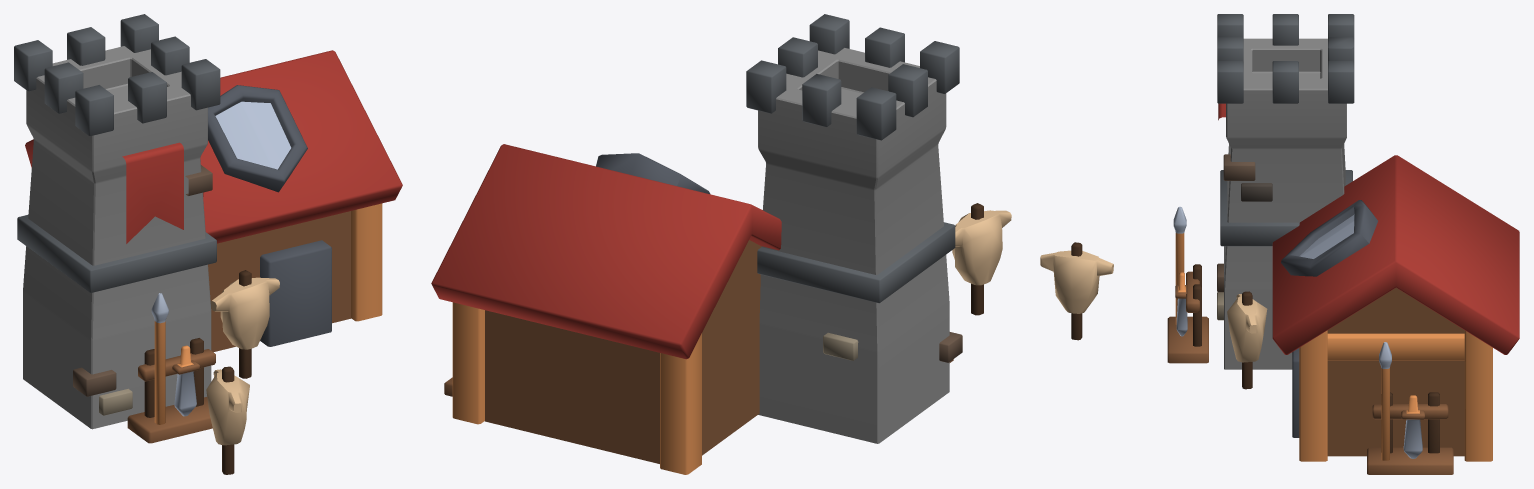
The model's file is Warrior-Barrack.fbx.
The picture shows the model from 3 angles, left to right: view 1: azimuth 30°, elevation 25°; view 2: azimuth 150°, elevation 25°; view 3: azimuth 270°, elevation 25°; orthographic projection. The views are drawn at different scales.
Parts seen in each view (by area): view 1: Cube.1431, Cube.1443, Cube.1442, Cube.1445, Cube.1435, Cube.1433, Cube.1441, Cube.1450, Cube.1432, Cube.1446, Cube.1449, Cube.1447 (+12 smaller); view 2: Cube.1431, Cube.1443, Cube.1442, Cube.1435, Cube.1433, Cube.1444, Cube.1432, Cube.1446, Cube.1554, Cube.1434, Cube.1450, Cube.1440; view 3: Cube.1443, Cube.1431, Cube.1442, Cube.1446, Cube.1451, Cube.1432, Cube.1450, Cube.1554, Cube.1433, Cube.1435, Cube.1453, Cube.1447 (+13 smaller).
Boxes of the visible parts, x1,y1,x2,y2 form: Cube.1431: (23,46,211,429); Cube.1443: (25,50,402,243); Cube.1442: (208,211,351,352); Cube.1445: (260,240,331,346); Cube.1435: (17,215,216,292); Cube.1433: (14,40,113,136); Cube.1441: (122,142,183,243); Cube.1450: (208,85,307,192); Cube.1432: (120,14,220,110); Cube.1446: (351,203,382,321); Cube.1449: (215,101,291,169); Cube.1447: (210,277,279,349); Cube.1431: (758,48,949,443); Cube.1443: (431,144,781,359); Cube.1442: (485,240,761,463); Cube.1435: (757,222,955,303); Cube.1433: (856,41,959,140); Cube.1444: (660,333,701,474); Cube.1432: (746,14,849,113); Cube.1446: (452,302,484,424); Cube.1554: (952,210,1011,285); Cube.1434: (802,27,904,127); Cube.1450: (596,153,710,193); Cube.1440: (823,332,858,360); Cube.1443: (1272,155,1519,354); Cube.1431: (1224,38,1346,369); Cube.1442: (1327,288,1464,456); Cube.1446: (1299,330,1492,461); Cube.1451: (1327,333,1464,360); Cube.1432: (1217,61,1354,103); Cube.1450: (1281,200,1377,276); Cube.1554: (1040,250,1113,313); Cube.1433: (1217,14,1354,45); Cube.1435: (1220,170,1352,246); Cube.1453: (1367,447,1453,474); Cube.1447: (1227,294,1267,362).
Bounding box in the file's own units: 136 × 116 × 168.
